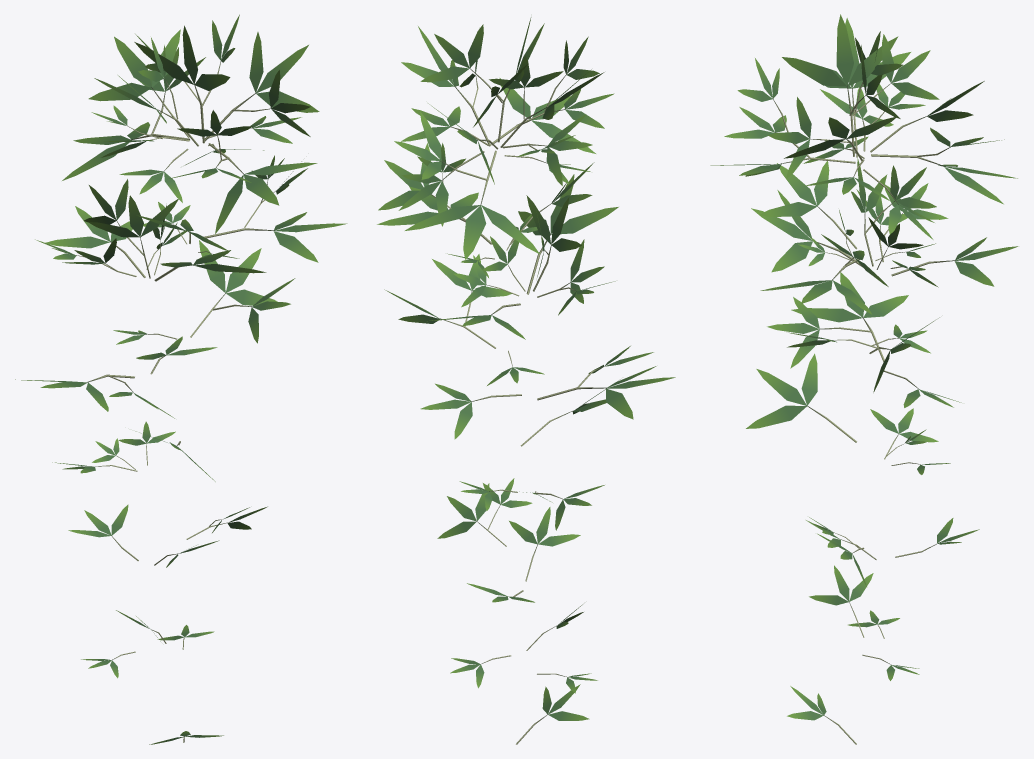
The picture shows the model from 3 angles, left to right: view 1: azimuth 30°, elevation 25°; view 2: azimuth 150°, elevation 25°; view 3: azimuth 270°, elevation 25°; orthographic projection.
Parts seen in each view (by area): view 1: plant.001; view 2: plant.001; view 3: plant.001.
Boxes of the visible parts, x1=… form: plant.001: x1=15, y1=14, x2=347, y2=744; plant.001: x1=377, y1=17, x2=675, y2=744; plant.001: x1=710, y1=14, x2=1018, y2=744.
Bounding box in the file's own units: 0.2076 × 0.5 × 0.1961.
